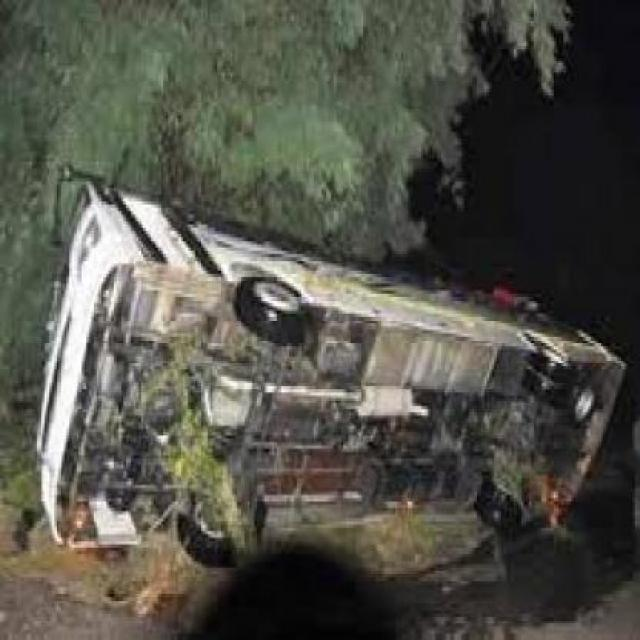accident: (28, 156, 627, 587)
